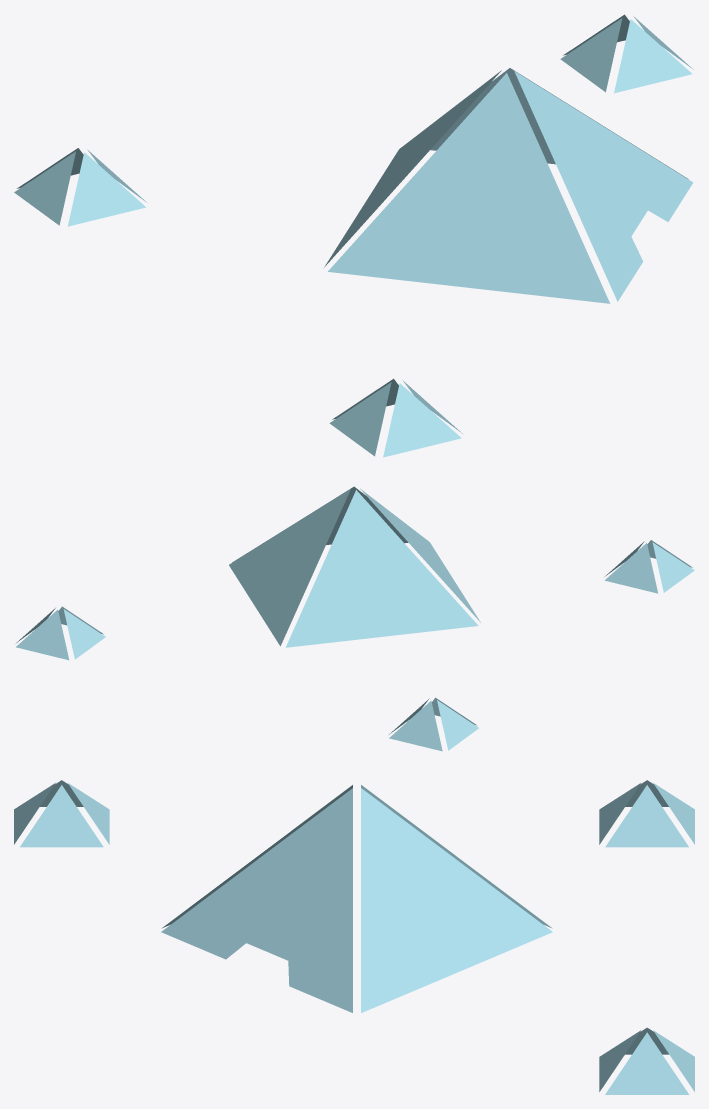
File: louvreMuseumGlass.FBX
3 renders of one model, top to bottom at view 1: azimuth 30°, elevation 25°; view 2: azimuth 150°, elevation 25°; view 3: azimuth 270°, elevation 25°, orthographic. The views are drawn at different scales.
Parts seen in each view (by area): view 1: louvreMuseumGlass; view 2: louvreMuseumGlass; view 3: louvreMuseumGlass.
Part boxes in pixels (x1,y1,x2,y2): louvreMuseumGlass: (14, 14, 693, 457); louvreMuseumGlass: (16, 486, 694, 751); louvreMuseumGlass: (14, 780, 694, 1094).
Size of the model in its own units: 9.32 by 2.47 by 9.32.
